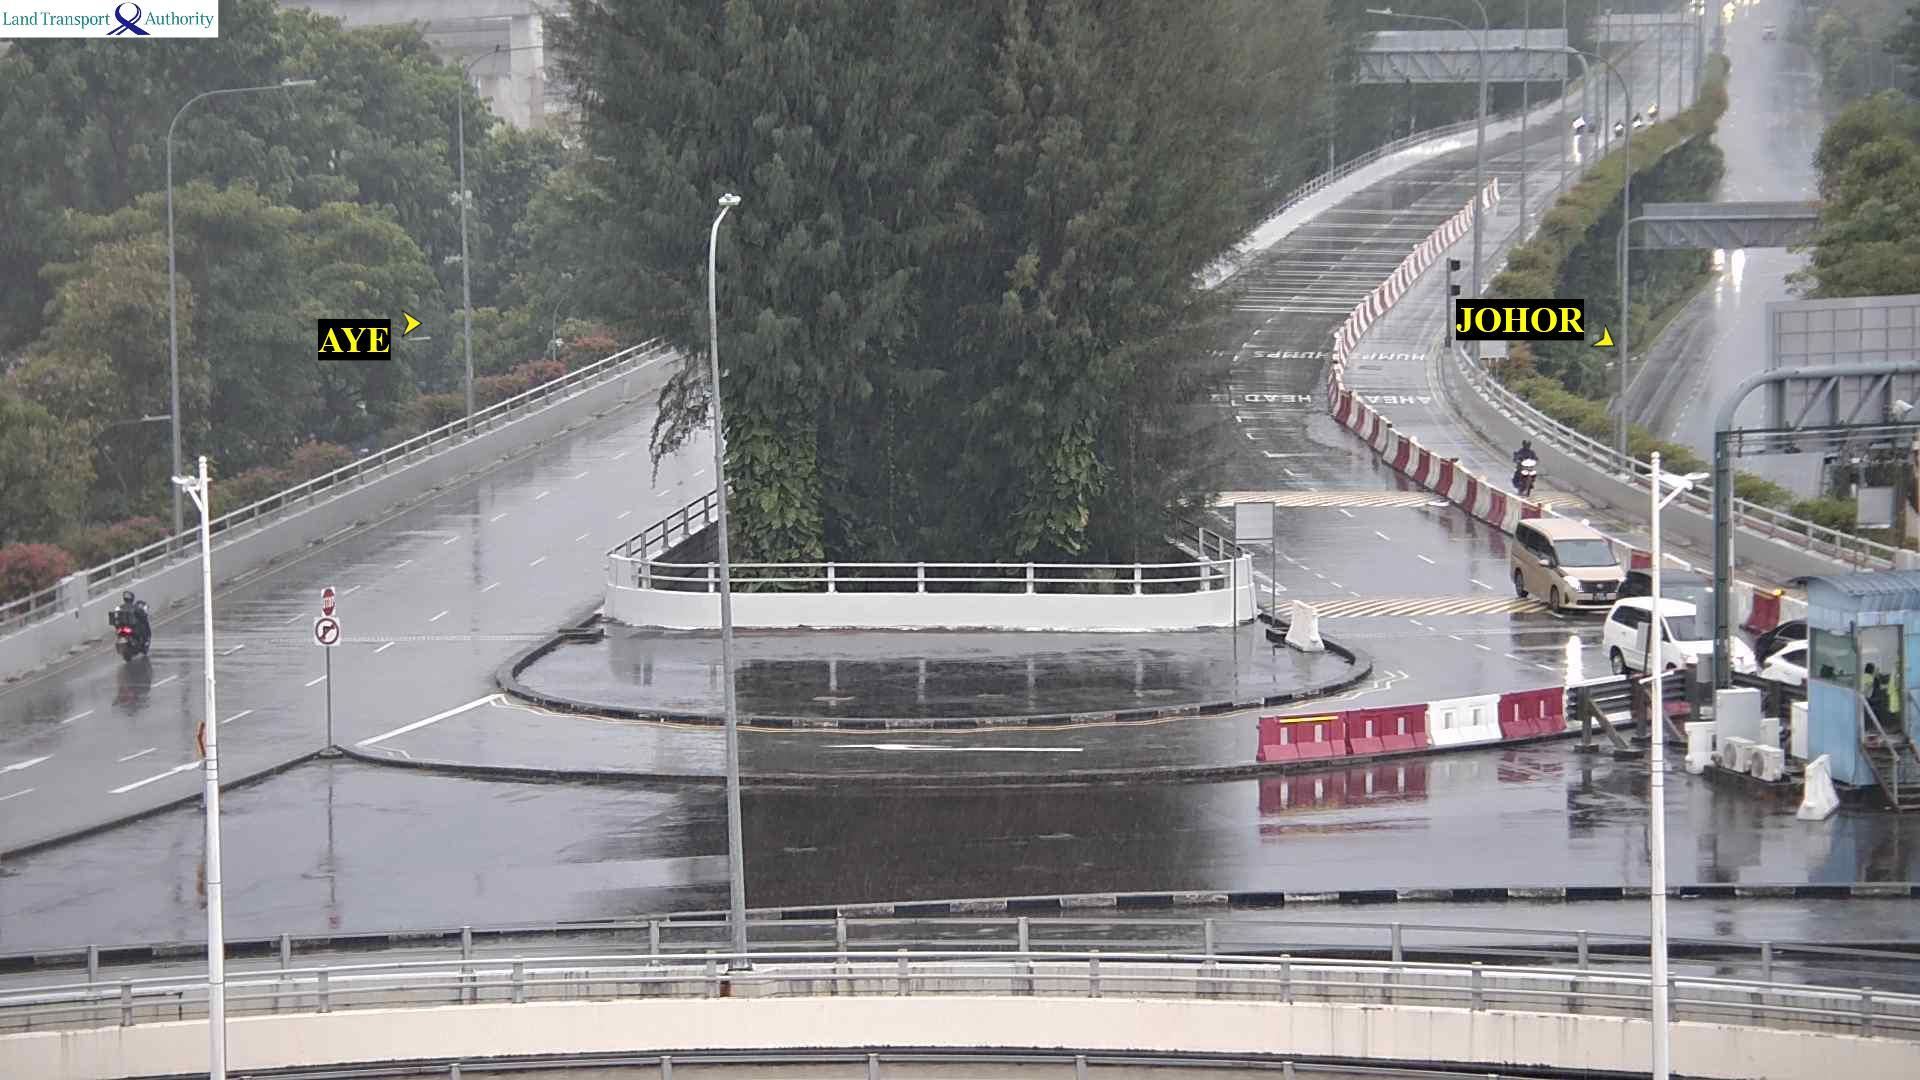vehicle-causeway-johor: (1511, 516, 1629, 613), (1607, 600, 1723, 675), (1514, 439, 1536, 496), (1576, 115, 1587, 131), (1649, 98, 1657, 115), (1613, 120, 1622, 134), (1634, 117, 1642, 130)
vehicle-causeway-singapore: (114, 588, 151, 665)
